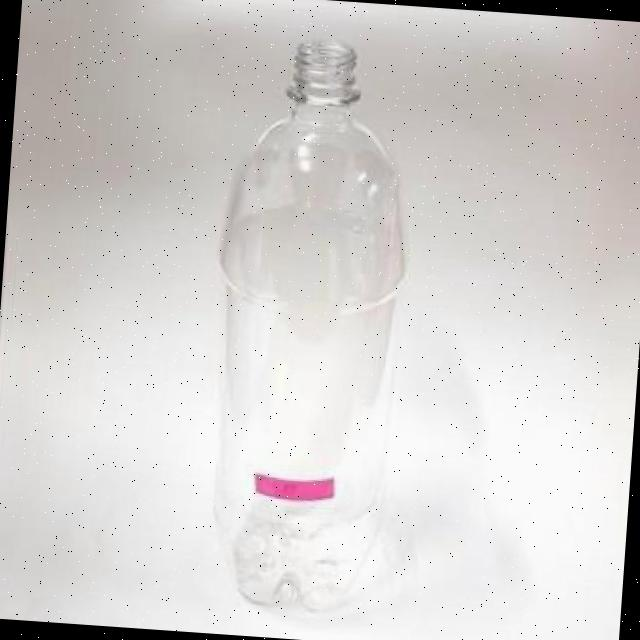bottle: (164, 17, 438, 632)
